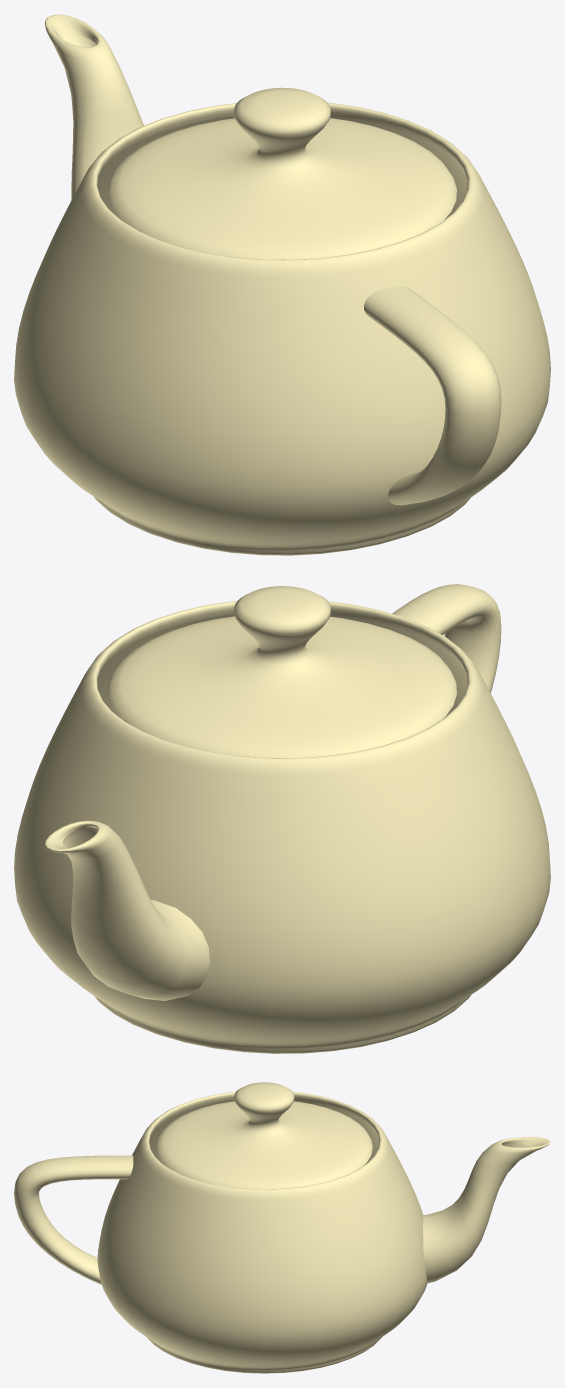
File: teapot.glb
3 renders of one model, top to bottom at view 1: azimuth 30°, elevation 25°; view 2: azimuth 150°, elevation 25°; view 3: azimuth 270°, elevation 25°, orthographic. The views are drawn at different scales.
Visible parts, largest first — view 1: teapot; view 2: teapot; view 3: teapot.
Boxes of the visible parts, <box> form: teapot: <box>14,14,550,555</box>; teapot: <box>14,584,550,1053</box>; teapot: <box>14,1082,550,1373</box>.
Size of the model in its own units: 4 by 3.15 by 6.43.
